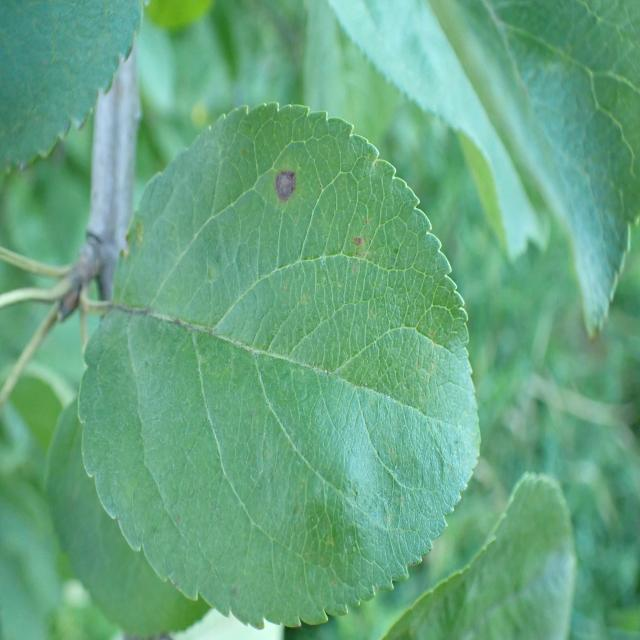Black Rot: (264, 156, 303, 217)
scab: (107, 276, 271, 395)
